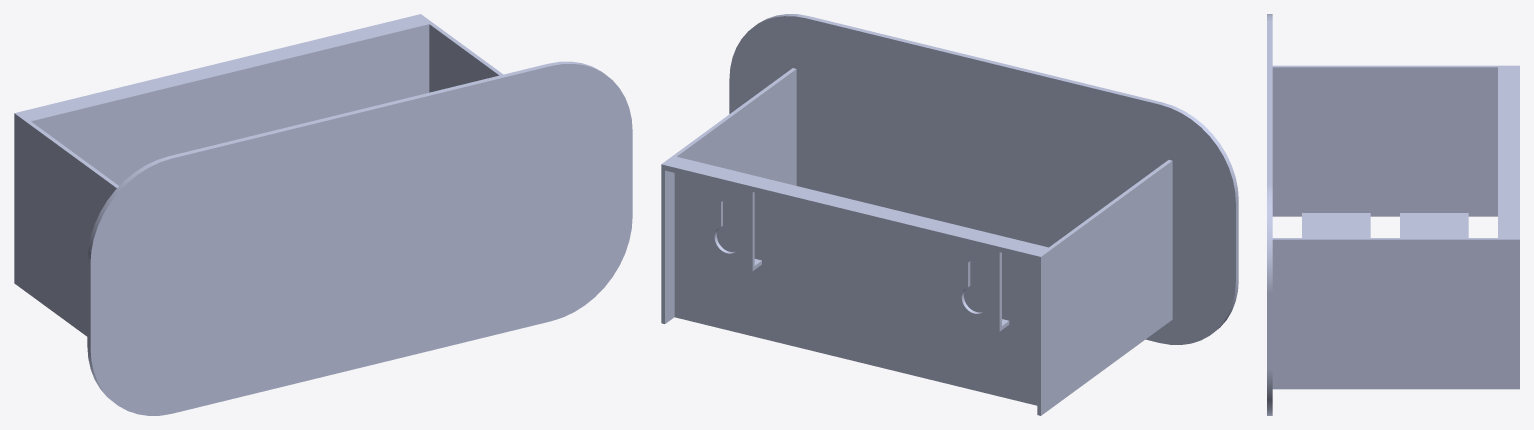
Rendered from radius-mono.82495cd820.glb.
3 renders of one model, left to right at view 1: azimuth 30°, elevation 25°; view 2: azimuth 150°, elevation 25°; view 3: azimuth 270°, elevation 25°, orthographic. The views are drawn at different scales.
Parts seen in each view (by area): view 1: NAUO1; view 2: NAUO1; view 3: NAUO1.
Part boxes in pixels (x1,y1,x2,y2): NAUO1: (14,14,632,415); NAUO1: (661,14,1238,415); NAUO1: (1267,14,1519,415).
Size of the model in its own units: 0.2 by 0.09 by 0.092.
